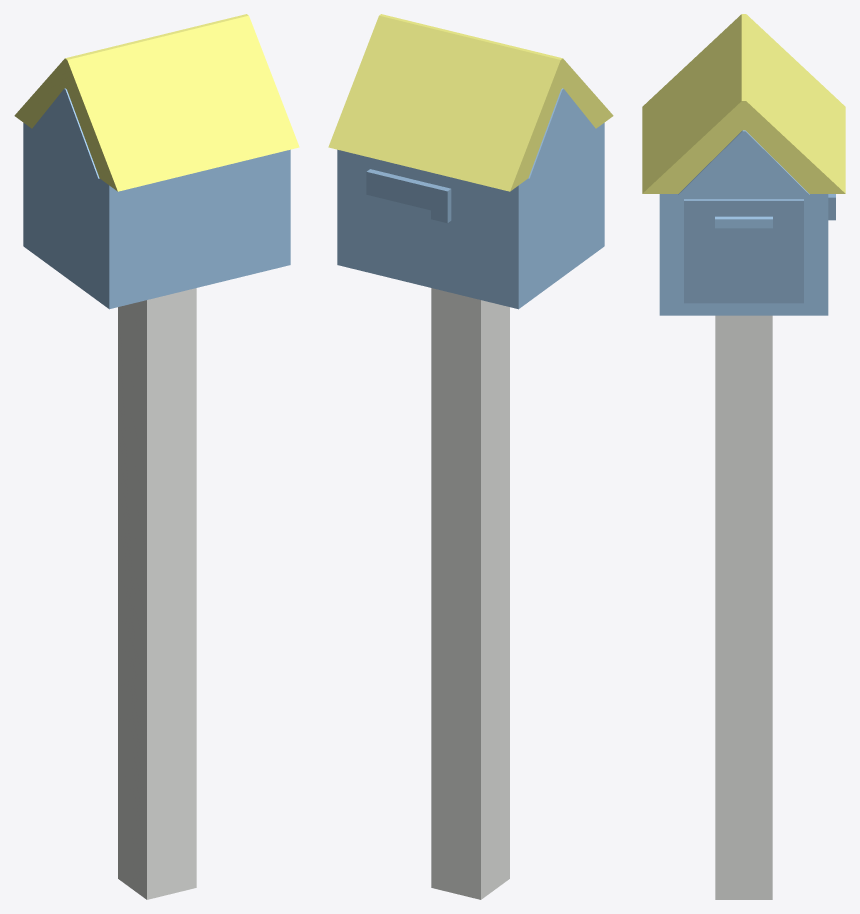
File: mailbox.fbx
The picture shows the model from 3 angles, left to right: view 1: azimuth 30°, elevation 25°; view 2: azimuth 150°, elevation 25°; view 3: azimuth 270°, elevation 25°; orthographic projection.
Parts seen in each view (by area): view 1: Cube, Cube.001, Cube.002, Cube.008; view 2: Cube, Cube.002, Cube.001, Cube.008, Cube.003, Cube.004; view 3: Cube, Cube.002, Cube.005, Cube.001, Cube.007, Cube.006.
Boxes of the visible parts, <box> form: Cube: <box>118,288,196,899</box>; Cube.001: <box>23,123,290,309</box>; Cube.002: <box>14,14,299,191</box>; Cube.008: <box>31,88,99,178</box>; Cube: <box>431,288,509,899</box>; Cube.002: <box>328,14,613,191</box>; Cube.001: <box>337,123,604,309</box>; Cube.008: <box>528,88,596,178</box>; Cube.003: <box>366,169,434,210</box>; Cube.004: <box>431,185,451,223</box>; Cube: <box>715,315,772,899</box>; Cube.002: <box>642,14,845,193</box>; Cube.005: <box>684,199,803,303</box>; Cube.001: <box>659,194,828,315</box>; Cube.007: <box>678,130,809,194</box>; Cube.006: <box>715,216,772,228</box>.
Size of the model in its own units: 47.61 by 199 by 44.18.
